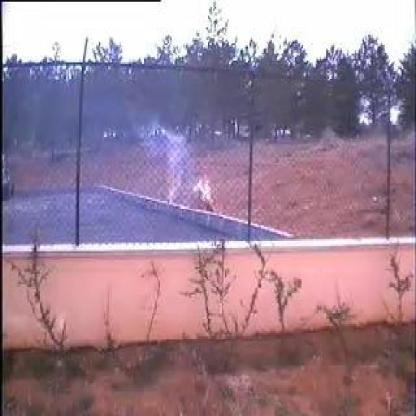-: (82, 121, 195, 229)
